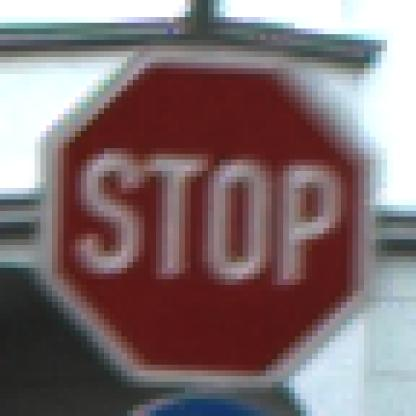Stop: (48, 58, 361, 374)
